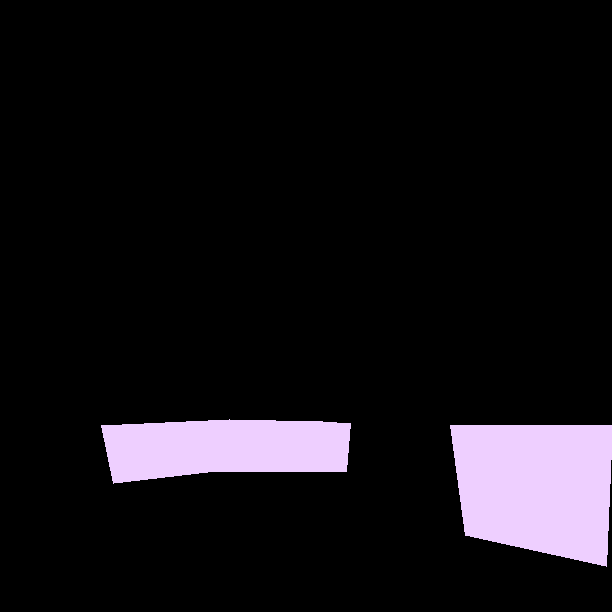Train: (101, 419, 612, 567)
